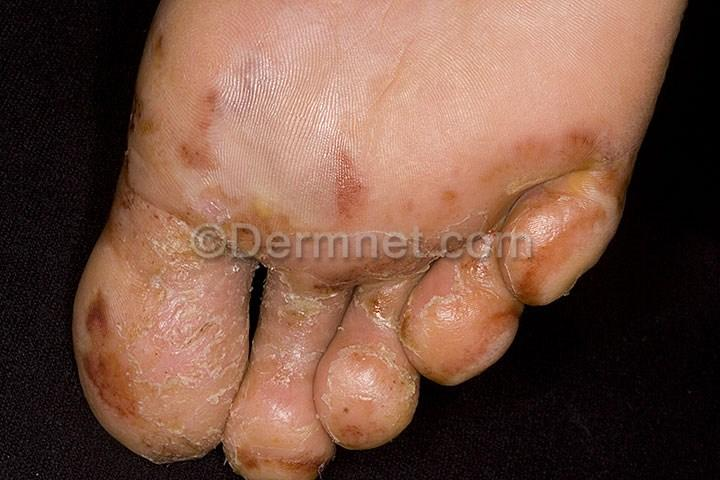Eczema: (73, 215, 238, 396), (301, 76, 427, 214), (504, 152, 614, 278), (311, 338, 434, 447), (246, 215, 349, 331), (235, 335, 320, 472), (158, 75, 249, 183), (417, 260, 495, 365), (342, 251, 437, 333), (431, 152, 504, 251), (556, 102, 625, 170)
